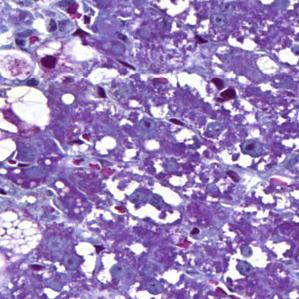ballooning: (3, 79, 53, 133), (2, 206, 44, 262)
